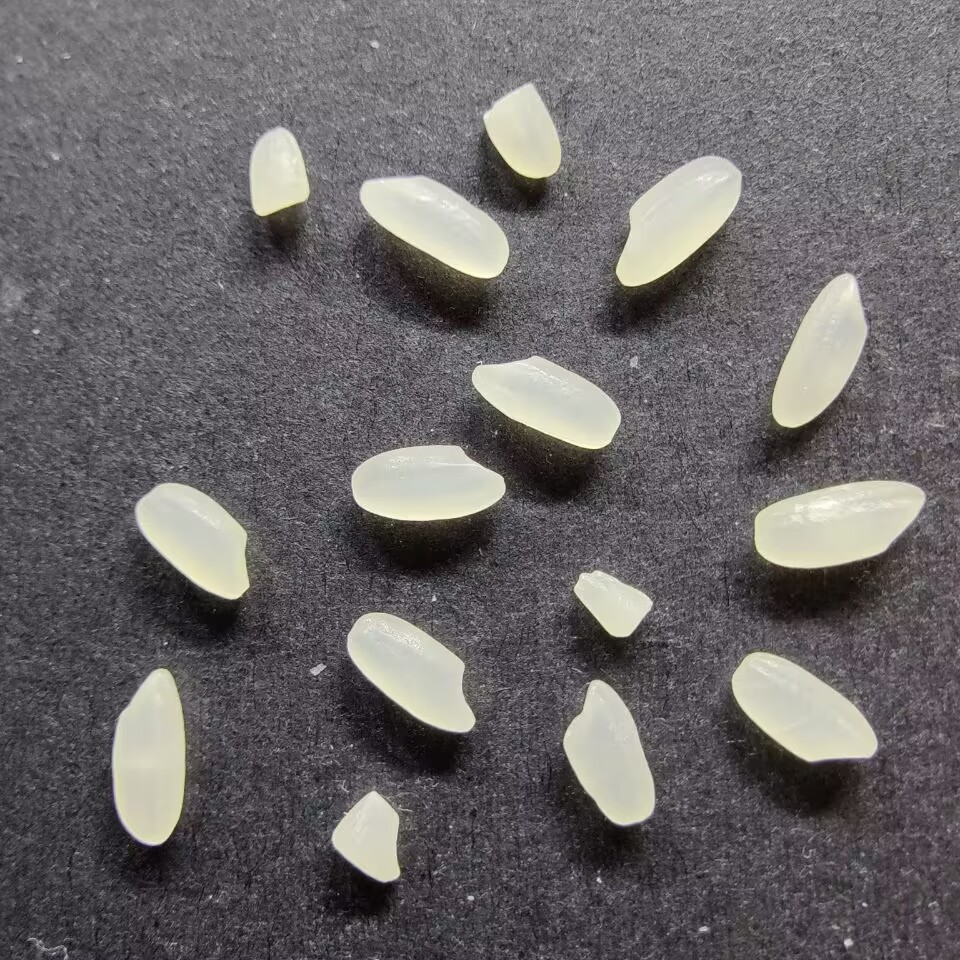broken: (482, 82, 566, 180), (328, 788, 406, 886), (572, 566, 655, 642), (247, 126, 311, 217)
rice: (614, 153, 747, 288), (730, 650, 879, 764), (344, 610, 478, 735), (767, 270, 871, 429), (357, 173, 510, 279), (751, 478, 927, 569), (469, 354, 623, 450), (560, 677, 658, 827), (133, 481, 252, 601), (109, 666, 187, 847), (349, 442, 507, 523)
